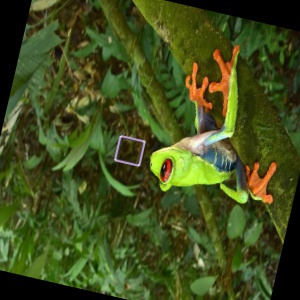square: (113, 132, 148, 170)
